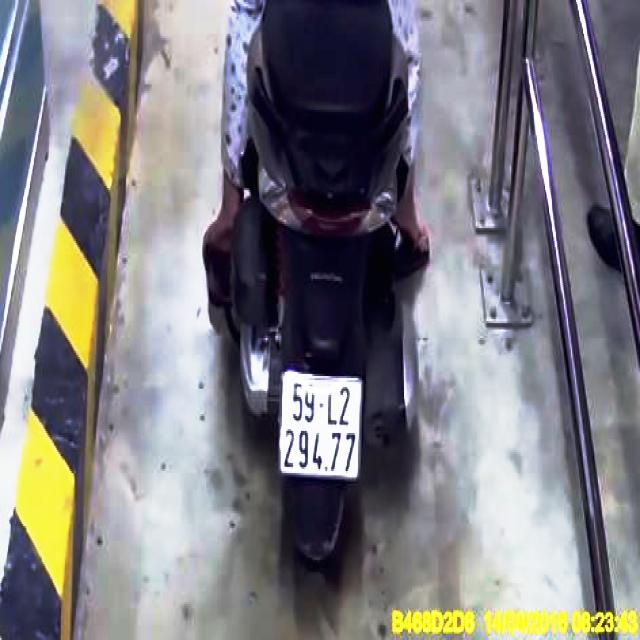license_plate: (282, 369, 364, 475)
